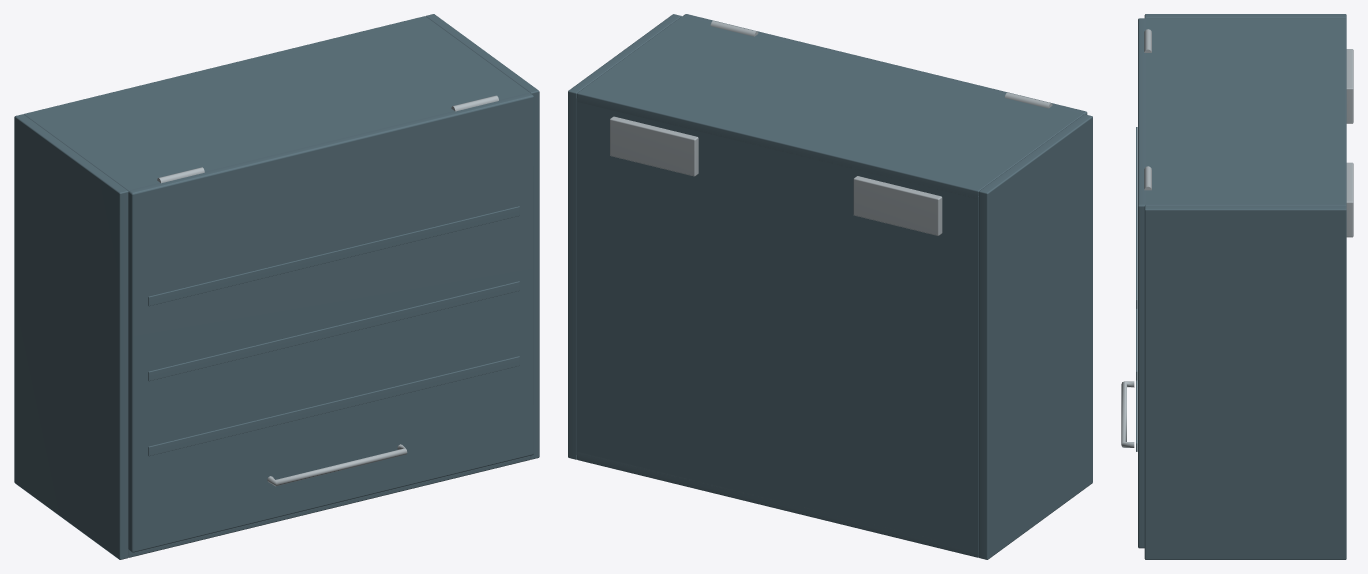
Rendered from garage-wall-cabinet.glb.
The picture shows the model from 3 angles, left to right: view 1: azimuth 30°, elevation 25°; view 2: azimuth 150°, elevation 25°; view 3: azimuth 270°, elevation 25°; orthographic projection. The views are drawn at different scales.
Parts seen in each view (by area): view 1: garage-wall-cabinet authored assembly; view 2: garage-wall-cabinet authored assembly; view 3: garage-wall-cabinet authored assembly.
Boxes of the visible parts, box(x1,y1,x2,y2) form: garage-wall-cabinet authored assembly: box(14, 14, 539, 559); garage-wall-cabinet authored assembly: box(568, 14, 1092, 559); garage-wall-cabinet authored assembly: box(1121, 14, 1353, 559).
Bounding box in the file's own units: 0.711 × 0.6 × 0.356.
